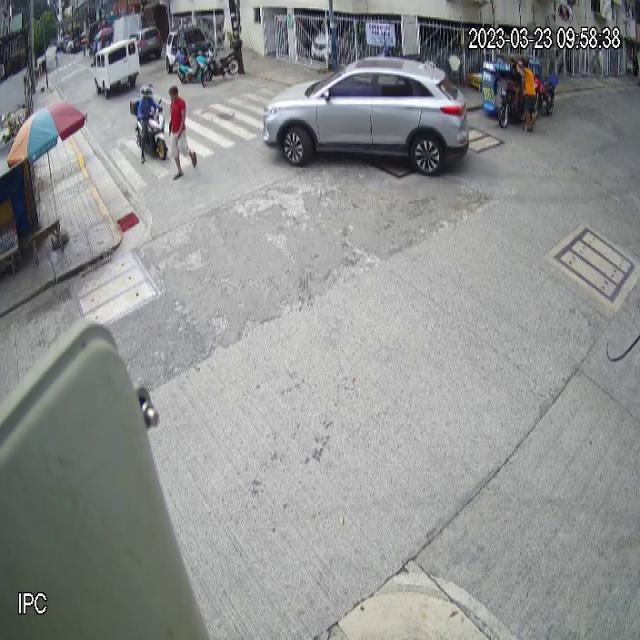Car: (263, 53, 469, 174)
Motorcycle: (129, 98, 168, 162)
Tricycle: (480, 50, 529, 129)
Van: (91, 36, 140, 100)
